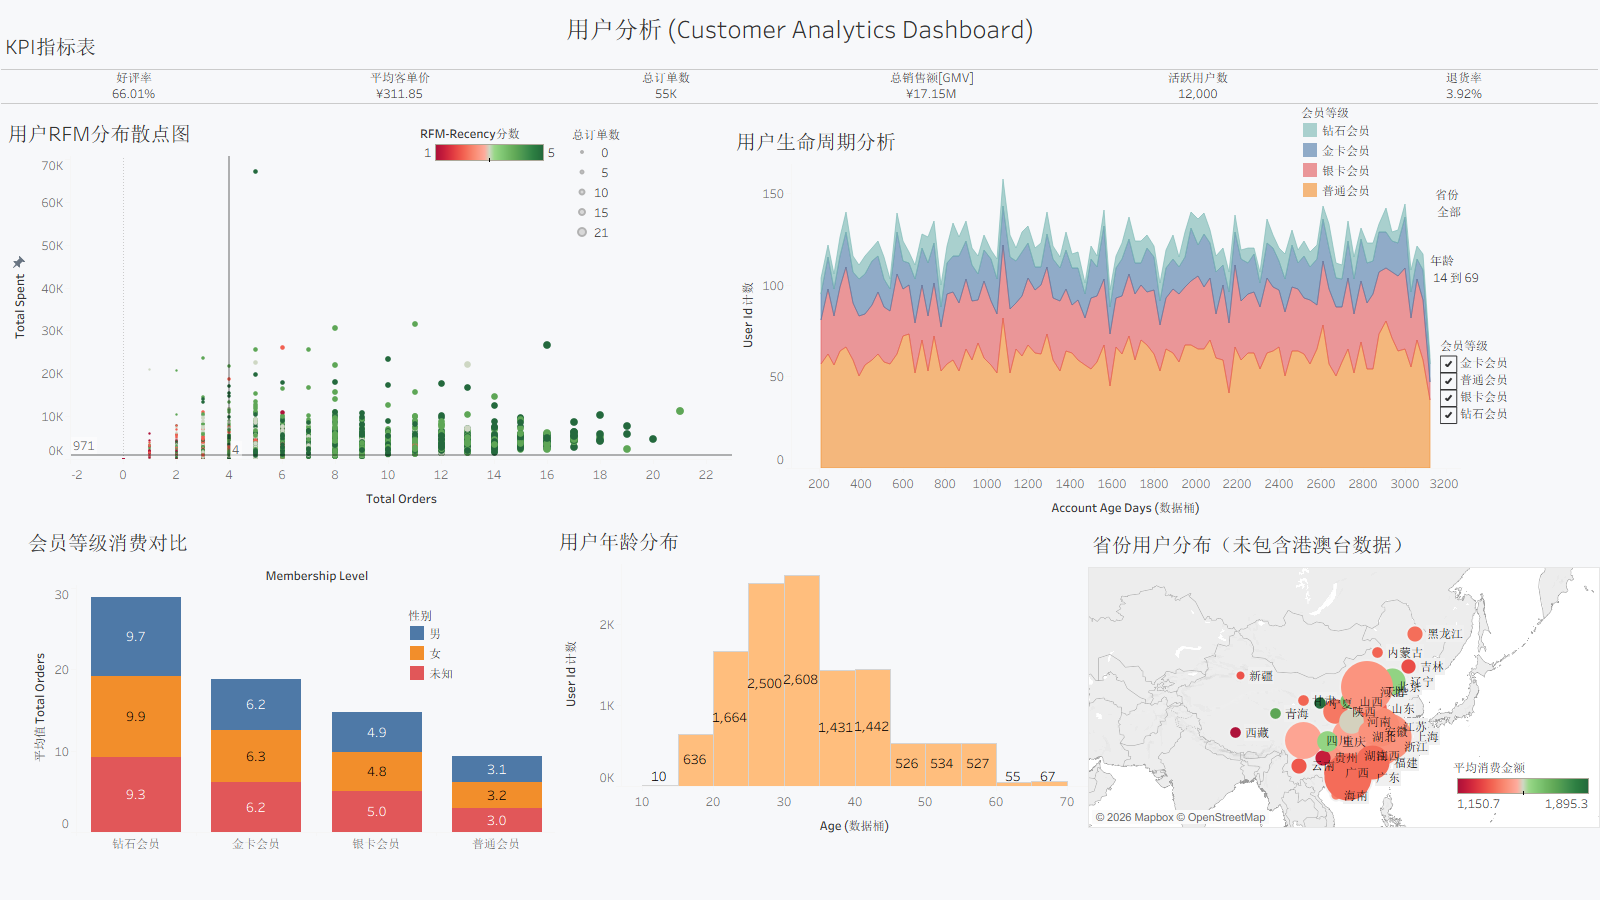

The page's visual inventory and layout, read from the dashboard file:
{"tool":"tableau","page":{"name":"用户分析 (Customer Analytics Dashboard)","canvas":[1600,900],"ordinal":1},"visuals":[{"type":"title","box":[8,8,1584,42]},{"type":"worksheet","title":"KPI指标表","mark":"Automatic","box":[1,26,1597,99]},{"type":"legend","title":"用户生命周期分析","param":"[federated.0lb1a9i1hp98jd18h5jou19731hb].[none:membership_level:nk]","box":[1300,102,140,98]},{"type":"worksheet","title":"用户RFM分布散点图","mark":"Automatic","rows":["total_spent"],"cols":["total_orders"],"box":[4,113,729,401]},{"type":"legend","title":"用户RFM分布散点图","param":"[federated.0lb1a9i1hp98jd18h5jou19731hb].[sum:Calculation_0177600908288000:qk]","box":[420,121,140,78]},{"type":"worksheet","title":"用户生命周期分析","mark":"Area","rows":["user_id"],"cols":["Account Age Days (数据桶)"],"box":[732,121,728,402]},{"type":"legend","title":"用户RFM分布散点图","param":"[federated.0lb1a9i1hp98jd18h5jou19731hb].[none:total_orders:qk]","box":[571,124,140,118]},{"type":"filter","title":"用户RFM分布散点图","param":"[federated.0lb1a9i1hp98jd18h5jou19731hb].[none:province:nk]","box":[1435,185,168,52]},{"type":"filter","title":"用户年龄分布","param":"[federated.0lb1a9i1hp98jd18h5jou19731hb].[none:age:qk]","box":[1430,251,168,76]},{"type":"filter","title":"用户生命周期分析","param":"[federated.0lb1a9i1hp98jd18h5jou19731hb].[none:membership_level:nk]","box":[1440,336,157,127]},{"type":"worksheet","title":"用户年龄分布","mark":"Automatic","rows":["user_id"],"cols":["Age (数据桶)"],"box":[555,521,533,320]},{"type":"worksheet","title":"会员等级消费对比","mark":"Automatic","rows":["total_orders"],"cols":["membership_level"],"box":[24,522,533,331]},{"type":"worksheet","title":"省份用户分布","mark":"Circle","box":[1088,524,512,304]},{"type":"legend","title":"会员等级消费对比","param":"[federated.0lb1a9i1hp98jd18h5jou19731hb].[none:gender:nk]","box":[407,605,140,78]},{"type":"legend","title":"省份用户分布","param":"[federated.0lb1a9i1hp98jd18h5jou19731hb].[avg:total_spent:qk]","box":[1453,755,140,76]}]}

Visuals, with their boxes in screenshot pixels (x1, y1, x2, y2), scaled from the page's 1600x900 canvas onto the 1600x900 screenshot:
title: <box>8,8,1592,50</box>
"KPI指标表" worksheet: <box>1,26,1598,125</box>
"用户生命周期分析" legend: <box>1300,102,1440,200</box>
"用户RFM分布散点图" worksheet: <box>4,113,733,514</box>
"用户RFM分布散点图" legend: <box>420,121,560,199</box>
"用户生命周期分析" worksheet (Area marks): <box>732,121,1460,523</box>
"用户RFM分布散点图" legend: <box>571,124,711,242</box>
"用户RFM分布散点图" filter: <box>1435,185,1599,237</box>
"用户年龄分布" filter: <box>1430,251,1598,327</box>
"用户生命周期分析" filter: <box>1440,336,1597,463</box>
"用户年龄分布" worksheet: <box>555,521,1088,841</box>
"会员等级消费对比" worksheet: <box>24,522,557,853</box>
"省份用户分布" worksheet (Circle marks): <box>1088,524,1599,828</box>
"会员等级消费对比" legend: <box>407,605,547,683</box>
"省份用户分布" legend: <box>1453,755,1593,831</box>
